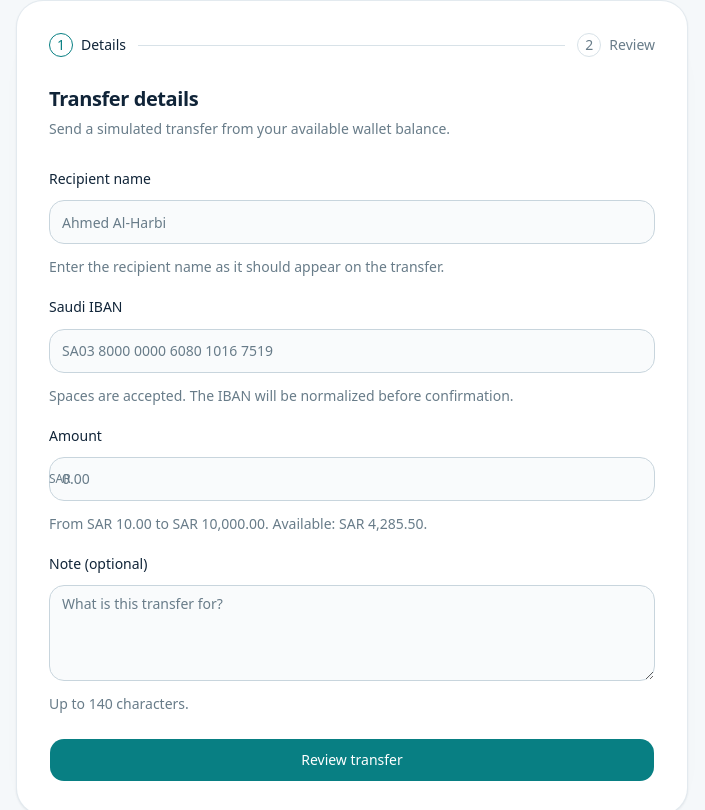
Test: transfer flow › shows required validation and focuses the first invalid field
Click the button "Review transfer": (352, 760) [49,738,655,782]
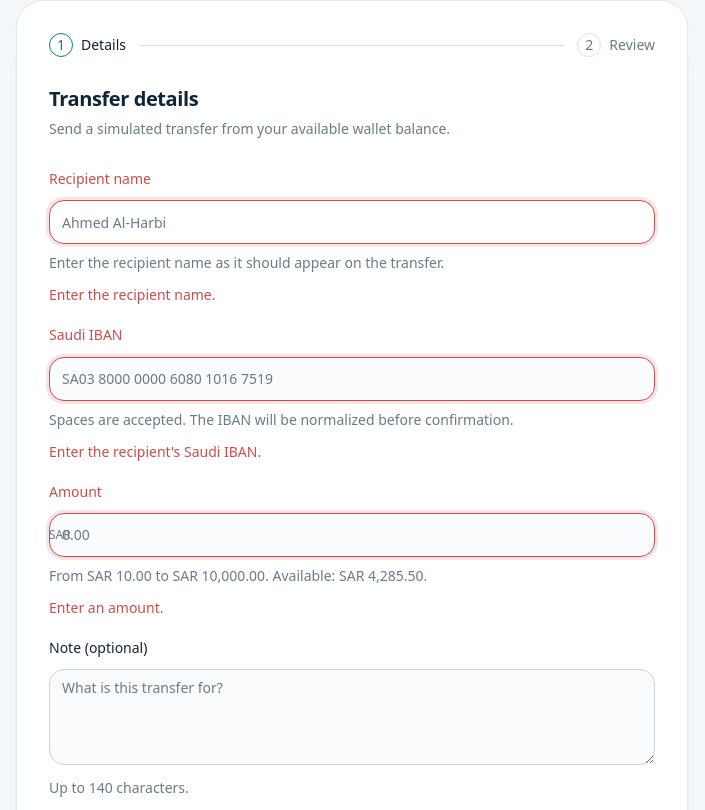
Now the text "Enter the recipient name." is shown, box [49,285,216,304]
Now the text "Enter the recipient's Saudi IBAN." is shown, box [49,442,261,460]
Now the text "Enter an amount." is shown, box [49,598,164,617]
